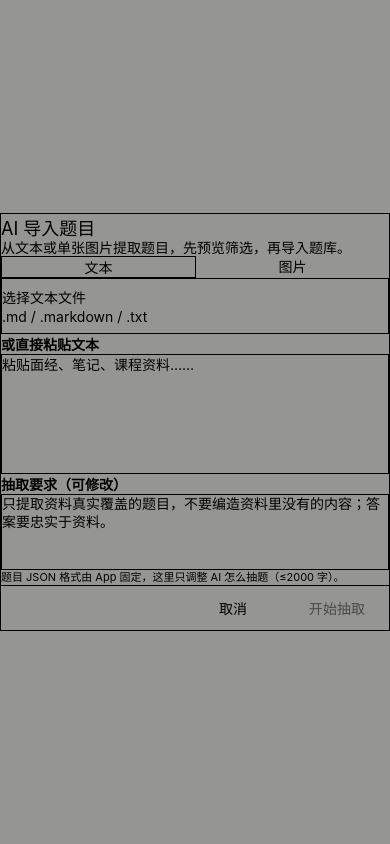
Test: 图片文件选择使用图片类型过滤且不自动上传
Click the tab with aria-label "图片来源": (292, 266) [278,258,306,275]
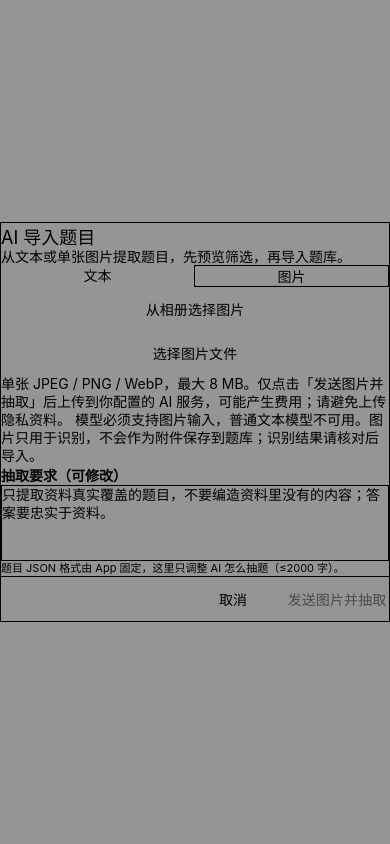
Click the button "选择图片文件": (195, 353) [1,331,389,375]
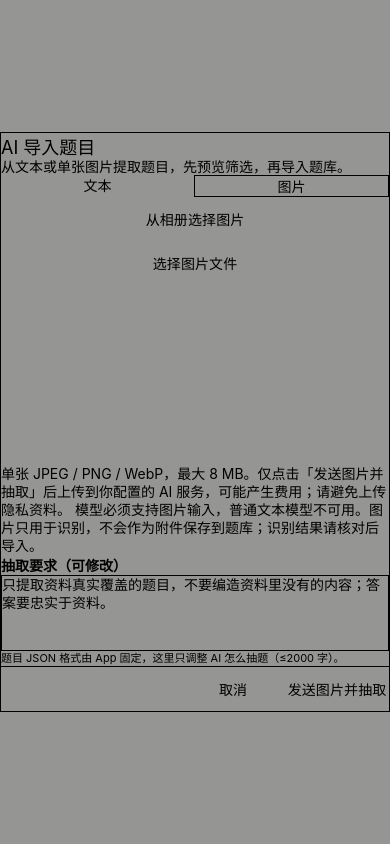
Expected: the element named "所选图片预览" is shown, [1,285,389,465]
